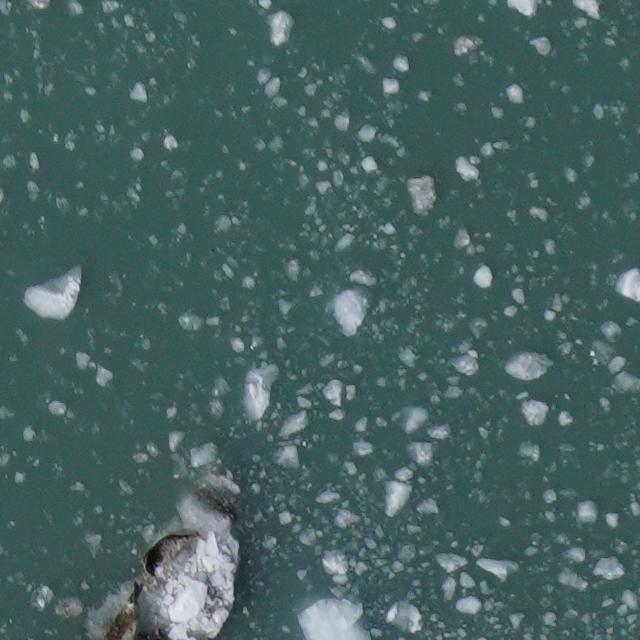seal: (138, 529, 211, 587), (100, 576, 148, 640)
